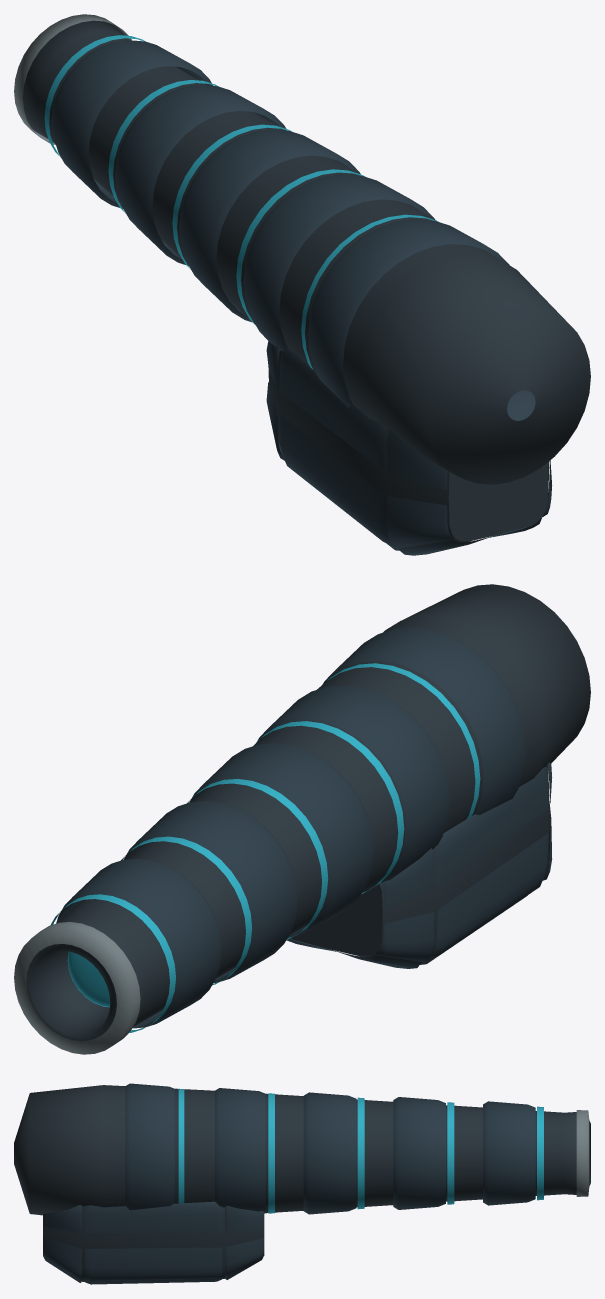
File: twin_pulse.glb
3 views of the same model, one above another, from view 1: azimuth 30°, elevation 25°; view 2: azimuth 150°, elevation 25°; view 3: azimuth 270°, elevation 25° (orthographic). The views are drawn at different scales.
Parts seen in each view (by area): view 1: twin_pulse; view 2: twin_pulse; view 3: twin_pulse.
Boxes of the visible parts, bbox=[...] form: twin_pulse: bbox=[14, 14, 590, 555]; twin_pulse: bbox=[14, 584, 590, 1054]; twin_pulse: bbox=[14, 1083, 590, 1284].
Bounding box in the file's own units: 0.532 × 0.7424 × 2.19.
